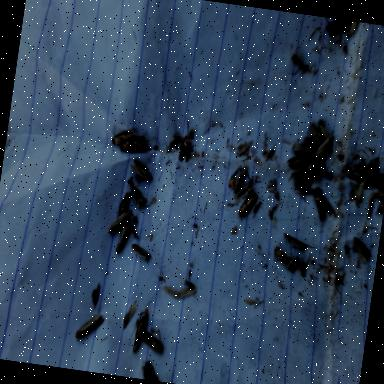pbw: (128, 306, 150, 353), (74, 309, 102, 341), (346, 232, 374, 264), (324, 18, 361, 42), (308, 188, 334, 222), (106, 204, 131, 238), (236, 187, 260, 219), (313, 130, 337, 160), (140, 326, 166, 352), (118, 131, 150, 152), (112, 220, 130, 256), (280, 230, 309, 252), (128, 158, 154, 182), (230, 164, 248, 194), (111, 125, 135, 147), (126, 186, 148, 208), (140, 359, 161, 381), (286, 152, 310, 171), (130, 240, 152, 260), (305, 120, 322, 145), (352, 179, 367, 207), (292, 139, 316, 156), (116, 192, 129, 218), (315, 115, 329, 137), (354, 163, 376, 177), (367, 185, 384, 203), (371, 170, 384, 188)
